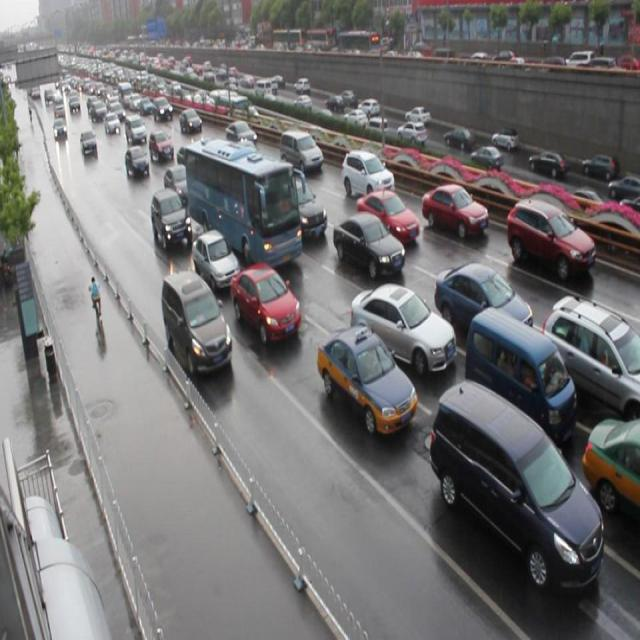car: (540, 294, 640, 422), (317, 326, 416, 435), (350, 282, 456, 378), (434, 261, 532, 340), (505, 195, 594, 280), (580, 415, 640, 522), (229, 261, 302, 345), (332, 210, 404, 277), (421, 181, 488, 240), (358, 188, 418, 246), (275, 177, 329, 240), (191, 226, 239, 292), (340, 146, 394, 202), (149, 187, 193, 248), (164, 162, 192, 201), (225, 119, 258, 148)
truck: (432, 380, 602, 590), (464, 306, 572, 443), (160, 268, 232, 373), (279, 128, 323, 172)
van: (186, 136, 302, 268)
